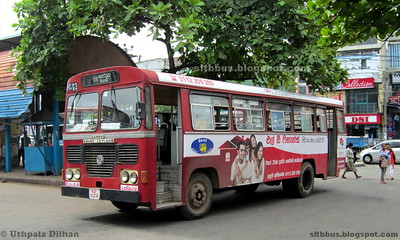bus: (60, 65, 347, 220)
